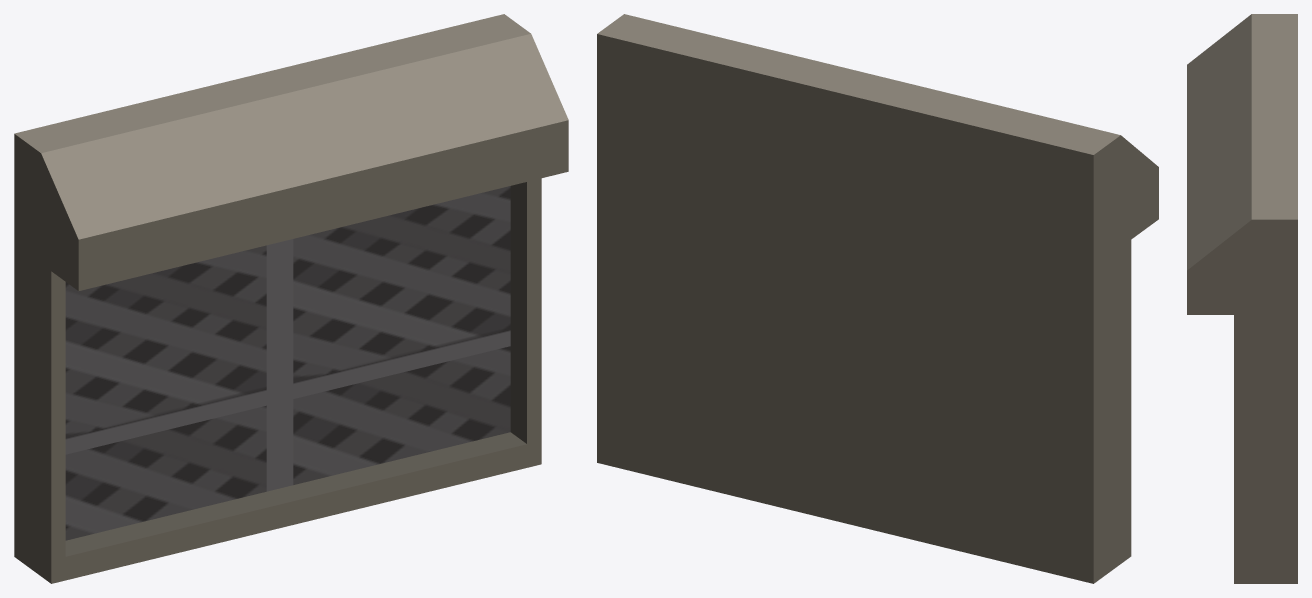
File: Window_A11.fbx
The picture shows the model from 3 angles, left to right: view 1: azimuth 30°, elevation 25°; view 2: azimuth 150°, elevation 25°; view 3: azimuth 270°, elevation 25°; orthographic projection. The views are drawn at different scales.
Parts seen in each view (by area): view 1: Window_A11; view 2: Window_A11; view 3: Window_A11.
Part boxes in pixels (<box>): Window_A11: <box>14,14,568,583</box>; Window_A11: <box>597,14,1158,583</box>; Window_A11: <box>1187,14,1297,583</box>.
Size of the model in its own units: 134 by 111 by 30.53.
Materials: 1 (1 with a texture image).
